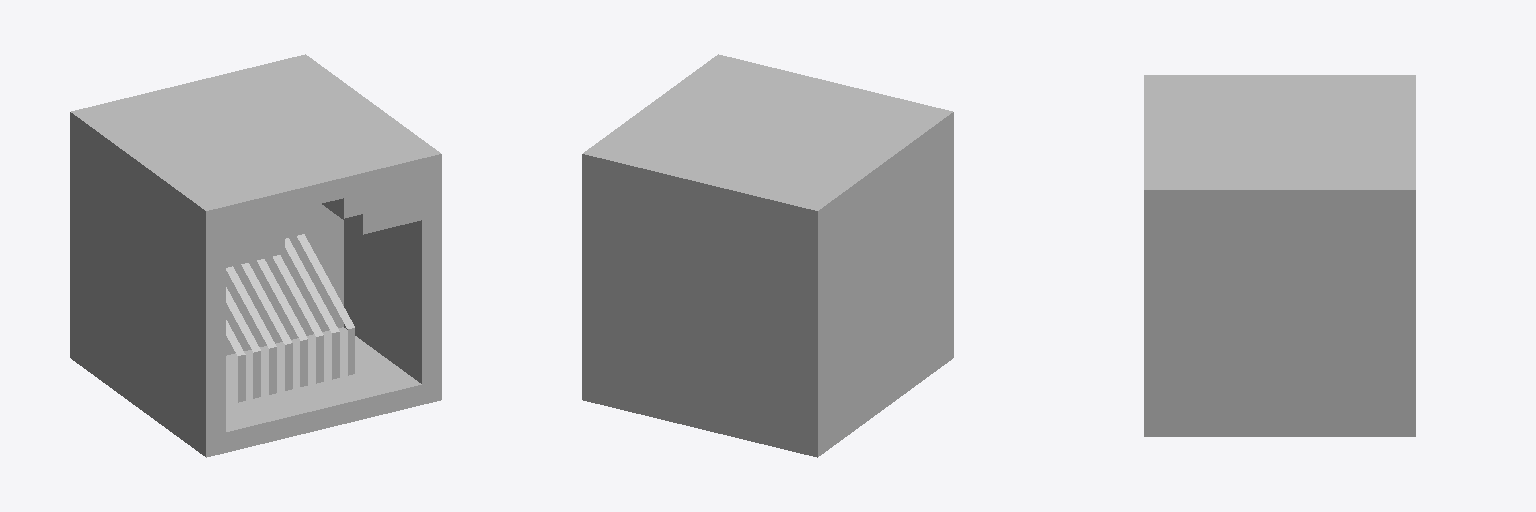
File: network_port.obj
3 views of the same model, side by side, from view 1: azimuth 30°, elevation 25°; view 2: azimuth 150°, elevation 25°; view 3: azimuth 270°, elevation 25° (orthographic).
Visible parts, largest first — view 1: Cube_Cube.001; view 2: Cube_Cube.001; view 3: Cube_Cube.001.
Part boxes in pixels (left/top/right/bottom): Cube_Cube.001: left=70, top=54, right=441, bottom=457; Cube_Cube.001: left=582, top=54, right=953, bottom=457; Cube_Cube.001: left=1144, top=75, right=1415, bottom=436.
Bounding box in the file's own units: 1 × 1 × 1.